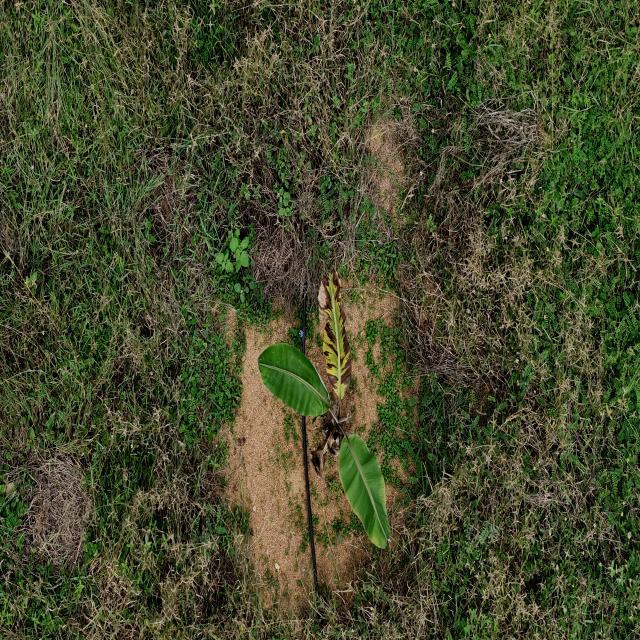notMangoTree: (241, 223, 431, 611)
